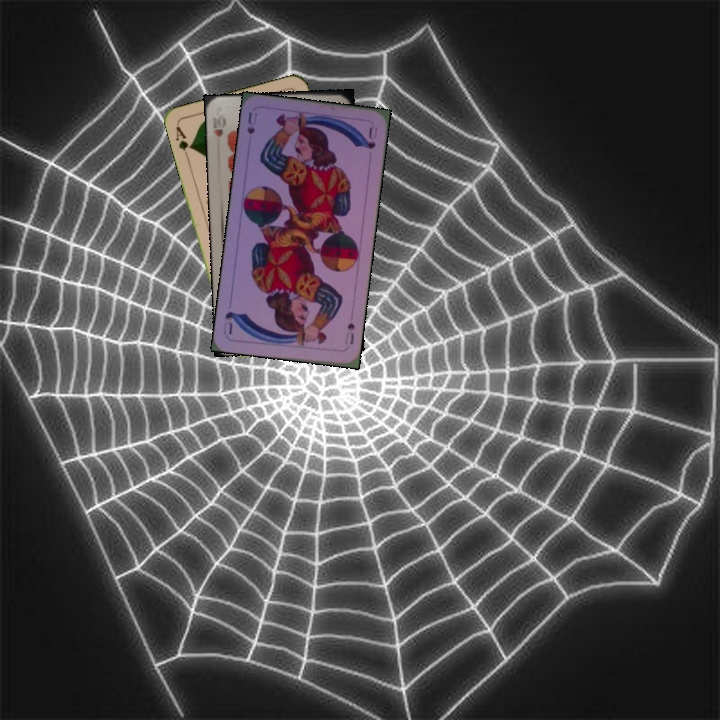GA: (172, 122, 195, 161)
H10: (208, 111, 229, 139)
SU: (243, 108, 260, 137), (341, 319, 358, 347)
